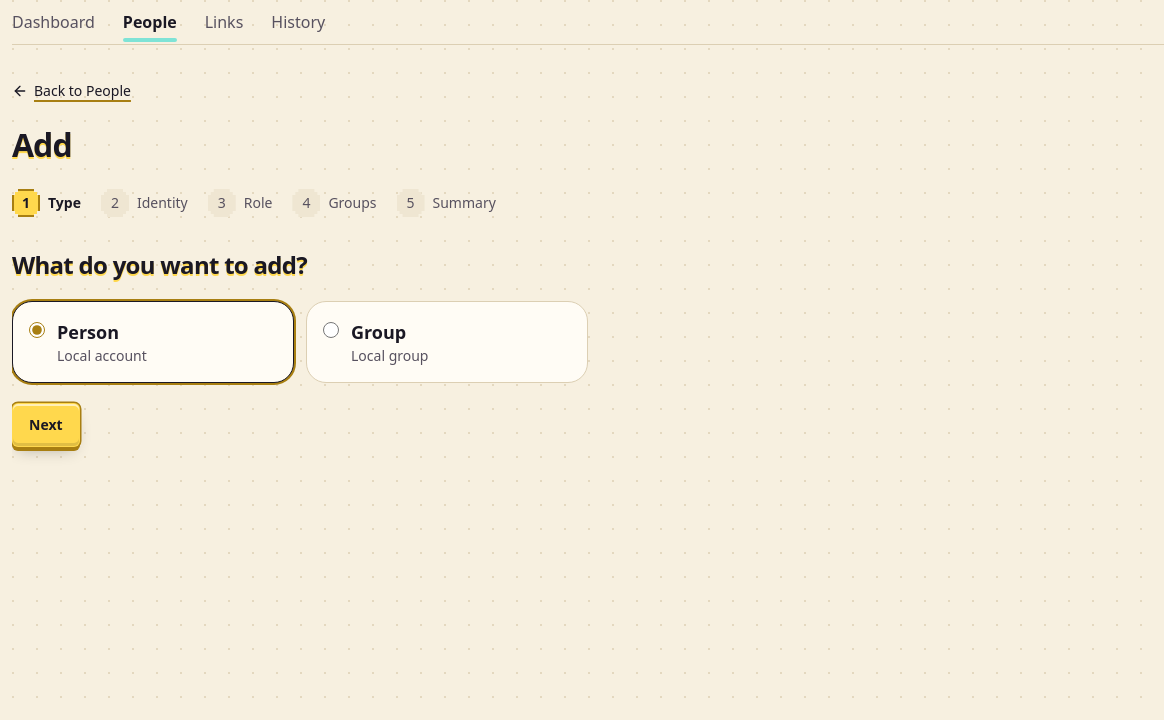
Scenario: AddPeople › goes back to the identity step with the error when the account cannot be created
Expected: the heading "What do you want to add?" is shown, top-left (12, 248), bottom-right (307, 281)
Click the button "Next" at (46, 425), box top-left (12, 403), bottom-right (80, 447)
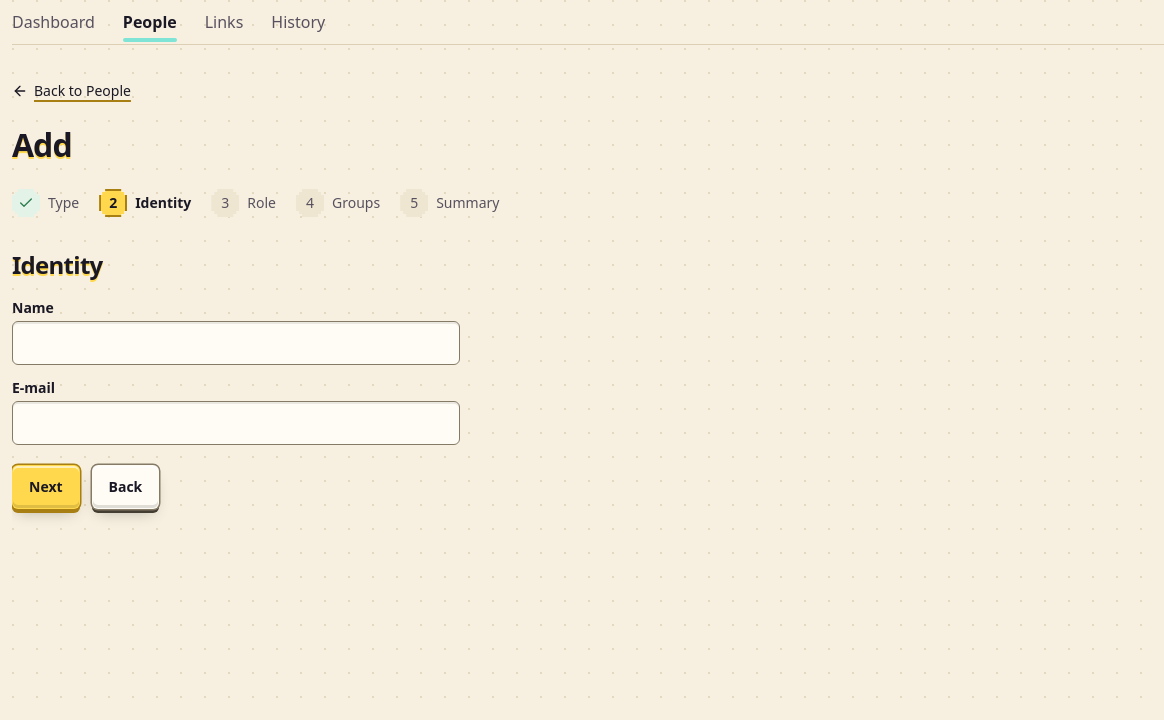
Type "Zoé" into the field labelled "Name" at (236, 343), box top-left (12, 321), bottom-right (460, 365)
Type "zoe@example.invalid" into the field labelled "E-mail" at (236, 423), box top-left (12, 401), bottom-right (460, 445)
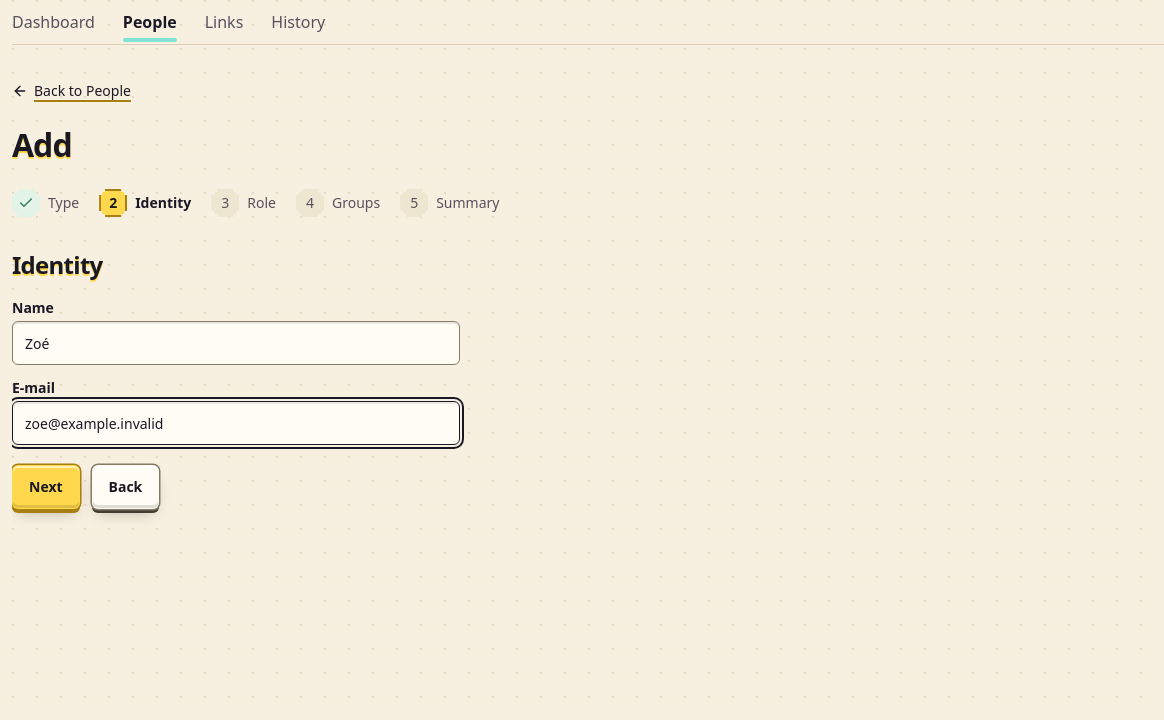
Click the button "Next" at (46, 487), box top-left (12, 465), bottom-right (80, 509)
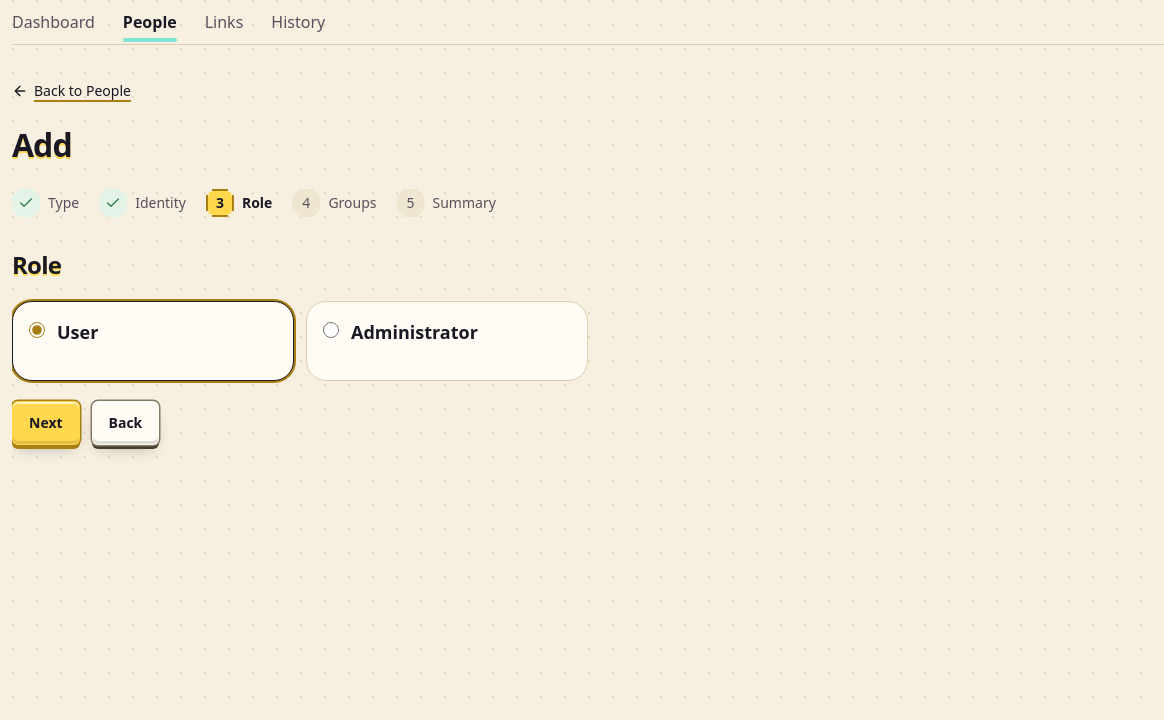
Click the button "Next" at (46, 423), box top-left (12, 401), bottom-right (80, 445)
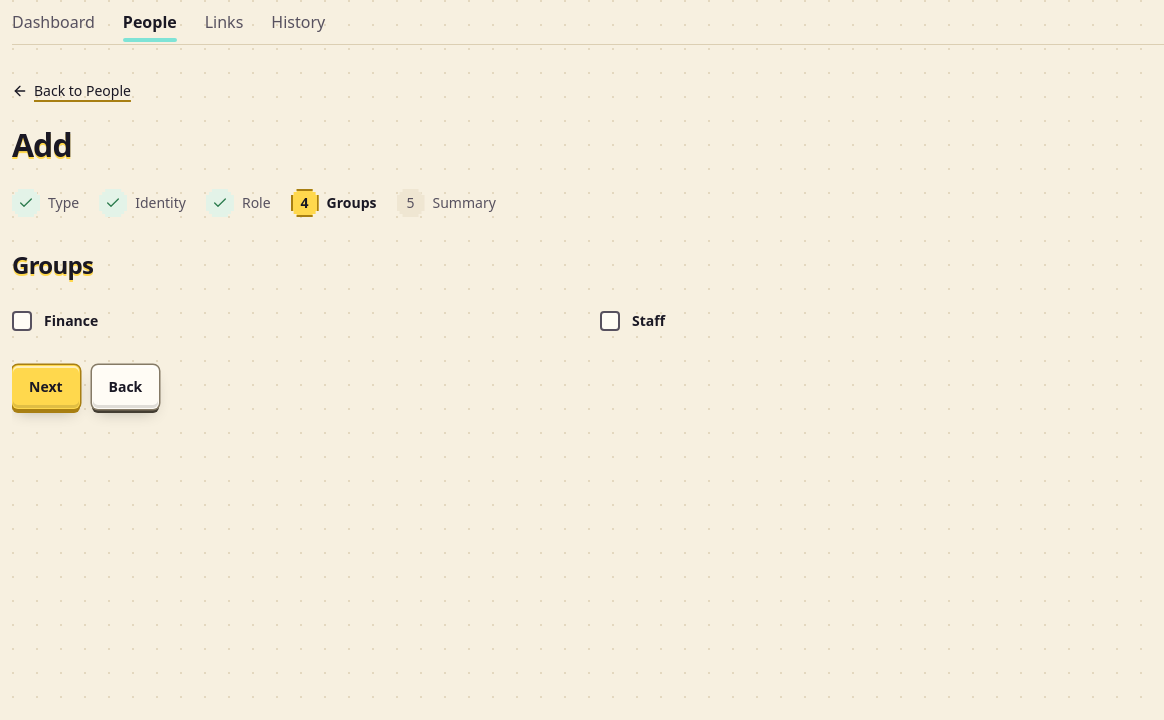
Click the button "Next" at (46, 387), box top-left (12, 365), bottom-right (80, 409)
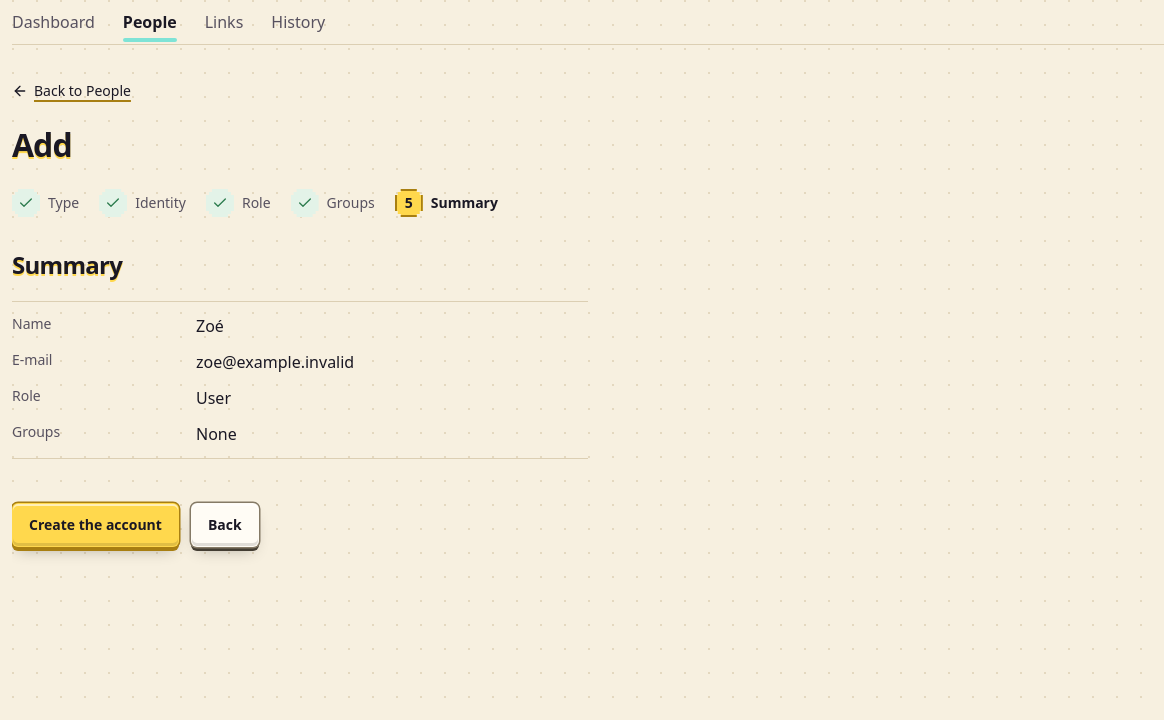
Click the button "Create the account" at (95, 525), box top-left (12, 503), bottom-right (179, 547)
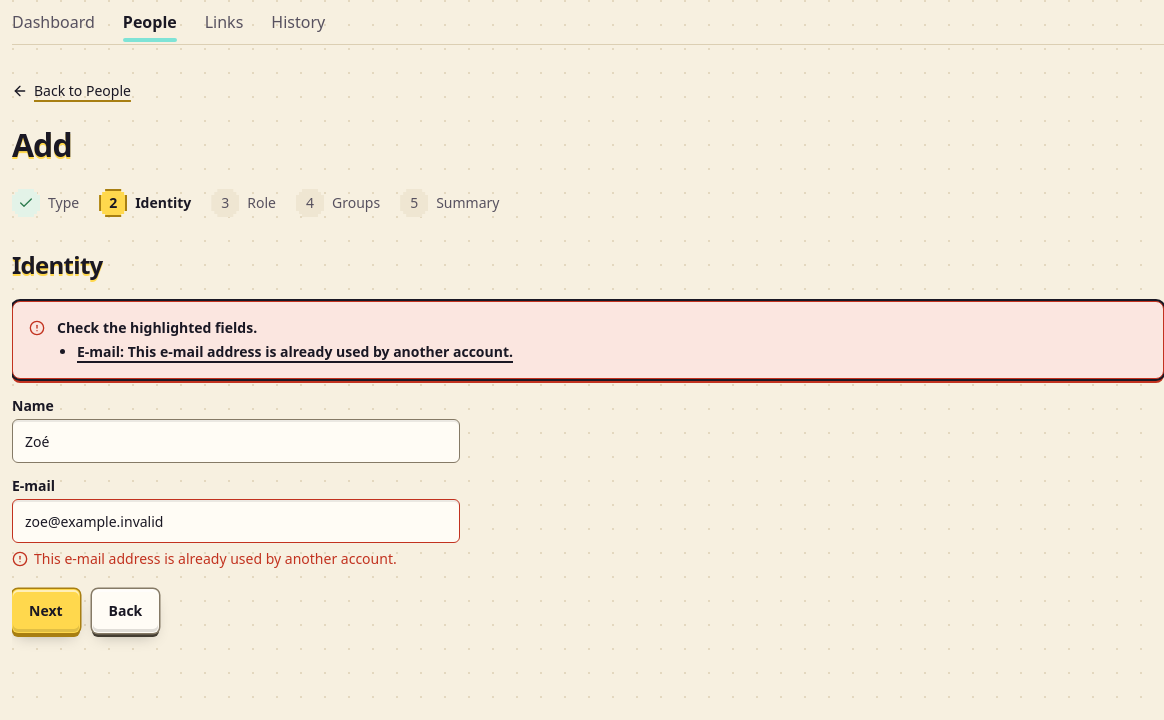
Now the heading "Identity" is shown, box top-left (12, 248), bottom-right (102, 281)
